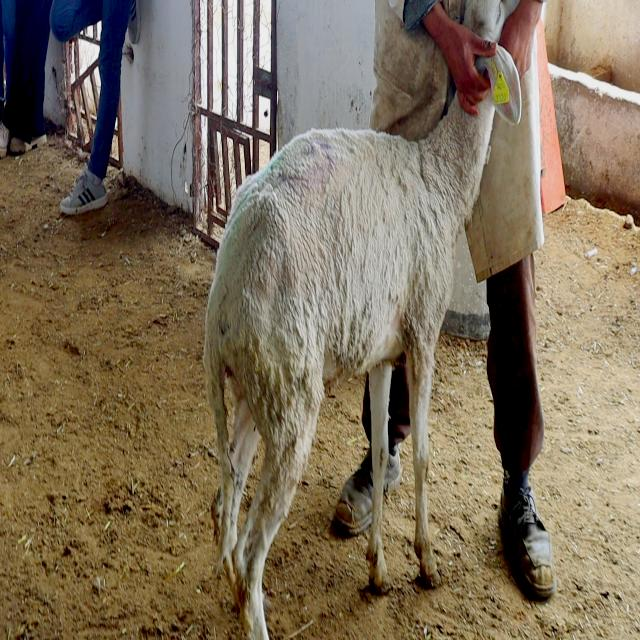Score_1: (204, 0, 522, 639)
